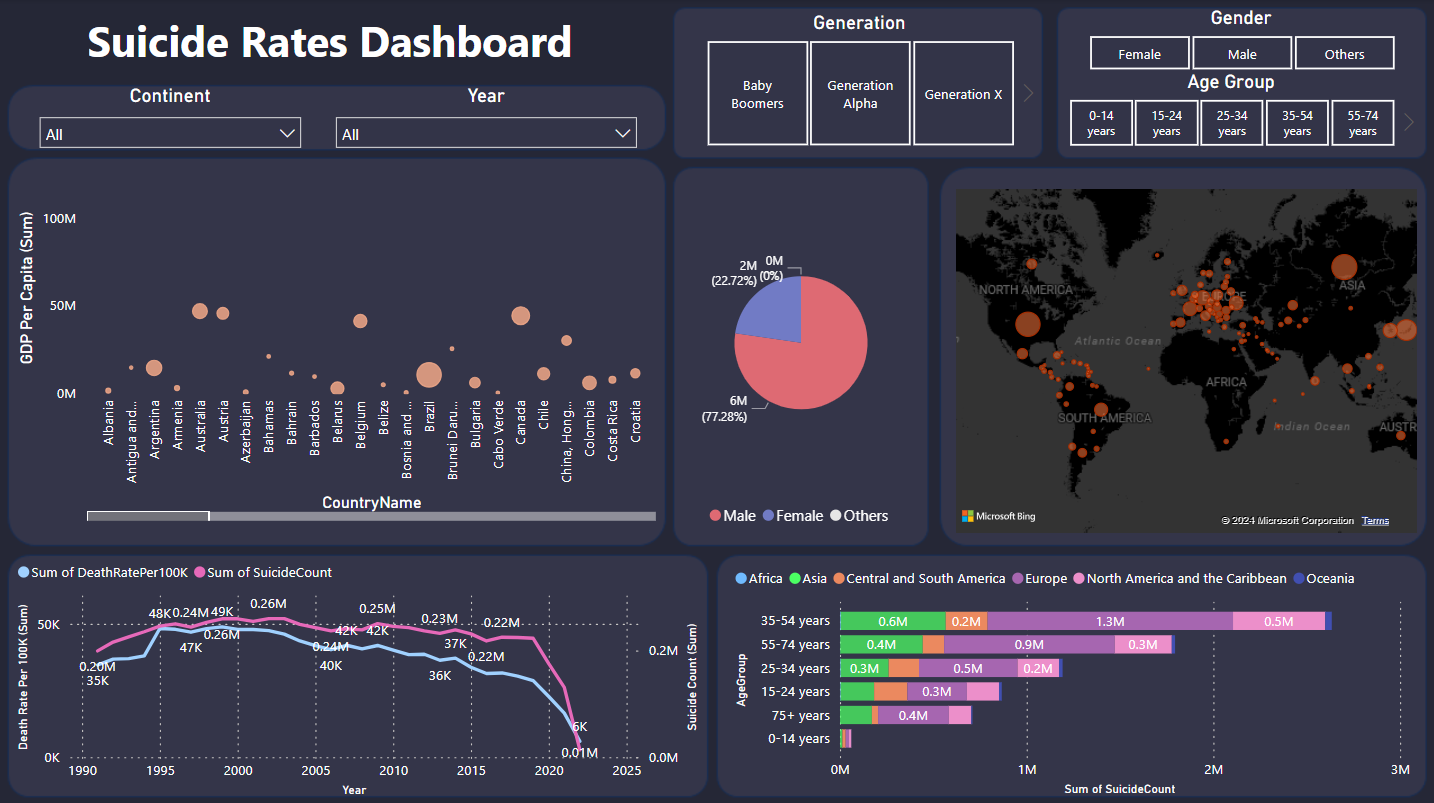

Layout of this report page (visuals, bound fields, positions):
{"tool":"powerbi","page":{"name":"Page 2","canvas":[1280,720],"ordinal":1},"visuals":[{"type":"slicer","title":"Year","fields":{"Values":["suicide_rates_1990-2022.Year"]},"box":[290.7,76,288.2,59.1],"z":0},{"type":"map","fields":{"Category":["suicide_rates_1990-2022.CountryName"],"Size":["Sum(suicide_rates_1990-2022.SuicideCount)"]},"box":[848.1,164.2,420,315],"z":1000},{"type":"slicer","title":"Gender","fields":{"Values":["suicide_rates_1990-2022.Sex"]},"box":[946.4,6.7,321.8,63.3],"z":2000},{"type":"textbox","title":"Suicide","box":[0,6.7,591,68.7],"z":3000},{"type":"lineChart","fields":{"Category":["suicide_rates_1990-2022.Year"],"Y":["Sum(suicide_rates_1990-2022.DeathRatePer100K)"],"Y2":["Sum(suicide_rates_1990-2022.SuicideCount)"]},"box":[12.1,490.9,617.5,224.3],"z":4000},{"type":"barChart","fields":{"Category":["suicide_rates_1990-2022.AgeGroup"],"Y":["Sum(suicide_rates_1990-2022.SuicideCount)"],"Series":["suicide_rates_1990-2022.RegionName"]},"box":[651.6,496.8,616.6,218.1],"z":5000},{"type":"slicer","title":"Age Group","fields":{"Values":["suicide_rates_1990-2022.AgeGroup"]},"box":[928.9,63.3,339.3,74],"z":6000},{"type":"slicer","title":"Continent","fields":{"Values":["suicide_rates_1990-2022.RegionName"]},"box":[26.5,76,253.3,60.3],"z":7000},{"type":"scatterChart","fields":{"Size":["Sum(suicide_rates_1990-2022.SuicideCount)"],"Y":["Sum(suicide_rates_1990-2022.GDPPerCapita)"],"X":["suicide_rates_1990-2022.CountryName"]},"box":[12.1,150.8,578.9,319.6],"z":8000},{"type":"slicer","title":"Generation","fields":{"Values":["suicide_rates_1990-2022.Generation"]},"box":[605.8,10.8,323.1,126.5],"z":9000},{"type":"pieChart","fields":{"Y":["Sum(suicide_rates_1990-2022.SuicideCount)"],"Category":["suicide_rates_1990-2022.Sex"]},"box":[605.4,164,219.5,314.8],"z":9001}]}

Visuals, with their boxes in screenshot pixels (x1, y1, x2, y2), scaled from the page's 1280x720 canvas onto the 1434x803 screenshot:
"Year" slicer: (x1=326, y1=85, x2=649, y2=151)
map - suicide_rates_1990-2022.CountryName x Sum(suicide_rates_1990-2022.SuicideCount): (x1=950, y1=183, x2=1421, y2=534)
"Gender" slicer: (x1=1060, y1=7, x2=1421, y2=78)
"Suicide" textbox: (x1=0, y1=7, x2=662, y2=84)
lineChart - suicide_rates_1990-2022.Year x Sum(suicide_rates_1990-2022.DeathRatePer100K): (x1=14, y1=547, x2=705, y2=798)
barChart - suicide_rates_1990-2022.AgeGroup x Sum(suicide_rates_1990-2022.SuicideCount): (x1=730, y1=554, x2=1421, y2=797)
"Age Group" slicer: (x1=1041, y1=71, x2=1421, y2=153)
"Continent" slicer: (x1=30, y1=85, x2=313, y2=152)
scatterChart - Sum(suicide_rates_1990-2022.SuicideCount) x Sum(suicide_rates_1990-2022.GDPPerCapita): (x1=14, y1=168, x2=662, y2=525)
"Generation" slicer: (x1=679, y1=12, x2=1041, y2=153)
pieChart - Sum(suicide_rates_1990-2022.SuicideCount) x suicide_rates_1990-2022.Sex: (x1=678, y1=183, x2=924, y2=534)
